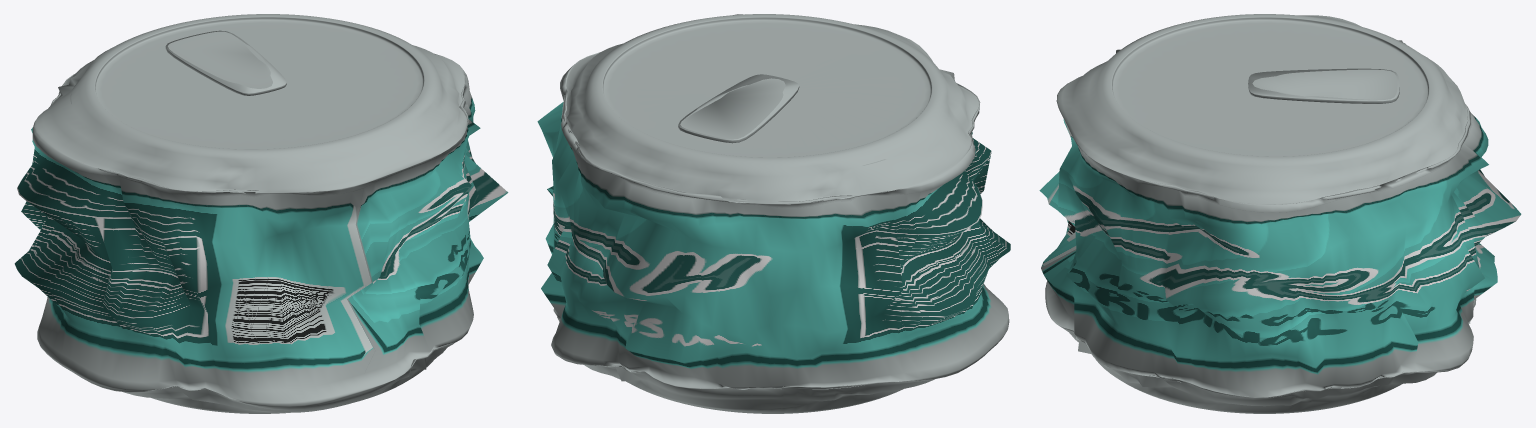
File: Lata_1.fbx
3 renders of one model, left to right at view 1: azimuth 30°, elevation 25°; view 2: azimuth 150°, elevation 25°; view 3: azimuth 270°, elevation 25°, orthographic.
Parts seen in each view (by area): view 1: Lata_1; view 2: Lata_1; view 3: Lata_1.
Boxes of the visible parts, bbox=[...] form: Lata_1: bbox=[14, 14, 508, 413]; Lata_1: bbox=[537, 14, 1010, 413]; Lata_1: bbox=[1039, 14, 1521, 413].
Bounding box in the file's own units: 91.3 × 51.18 × 87.38.
